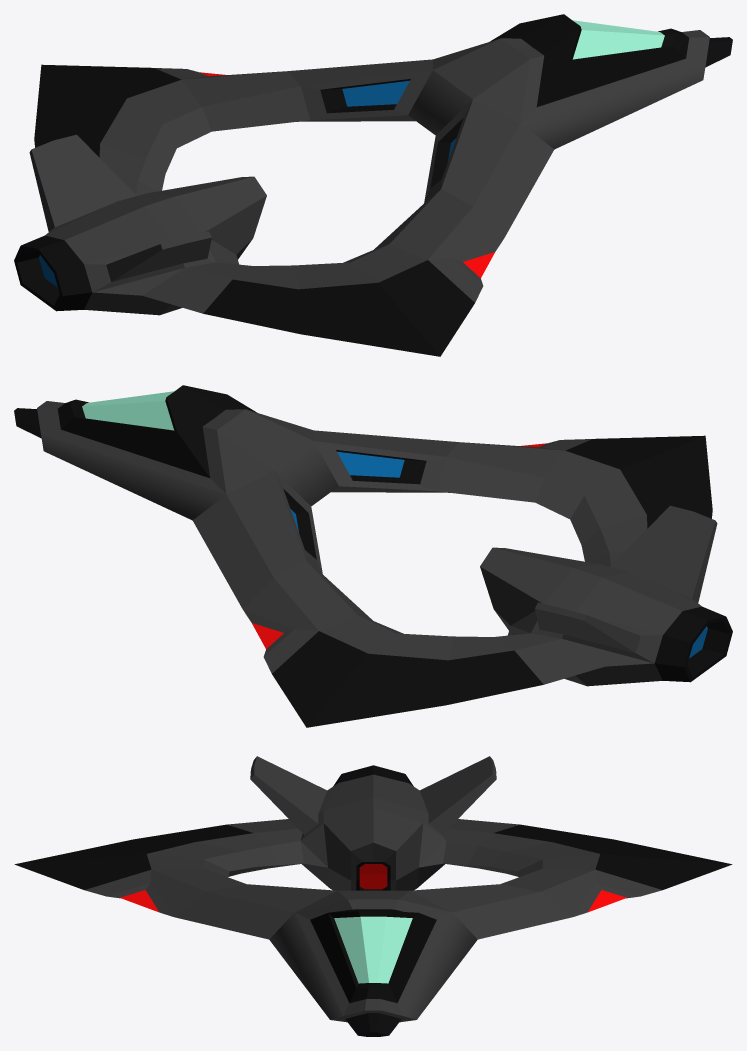
File: SM_PlayershipType6.FBX
3 renders of one model, top to bottom at view 1: azimuth 30°, elevation 25°; view 2: azimuth 150°, elevation 25°; view 3: azimuth 270°, elevation 25°, orthographic. The views are drawn at different scales.
Visible parts, largest first — view 1: Box002; view 2: Box002; view 3: Box002.
Part boxes in pixels (bbox=[...]): Box002: bbox=[14, 14, 732, 356]; Box002: bbox=[14, 385, 732, 727]; Box002: bbox=[14, 756, 732, 1036].
Size of the model in its own units: 104 by 24.13 by 104.
